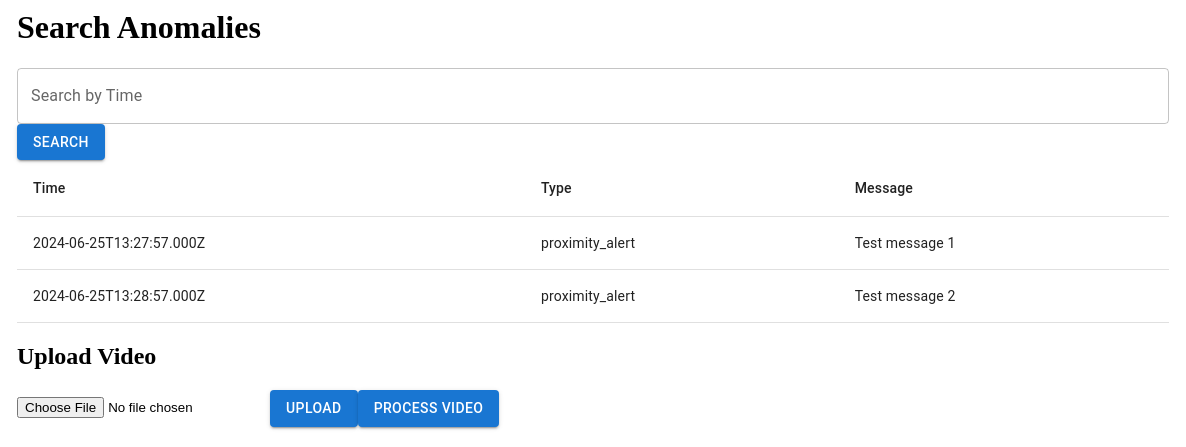
SearchPage › should filter anomalies based on search term
This screenshot has width=1186, height=447.
Expected: the text "Test message 1" is shown, [839,217,1169,270]
Type "13:27:57" into the field labelled "Search by Time" at (593, 96), box [17,68,1169,124]
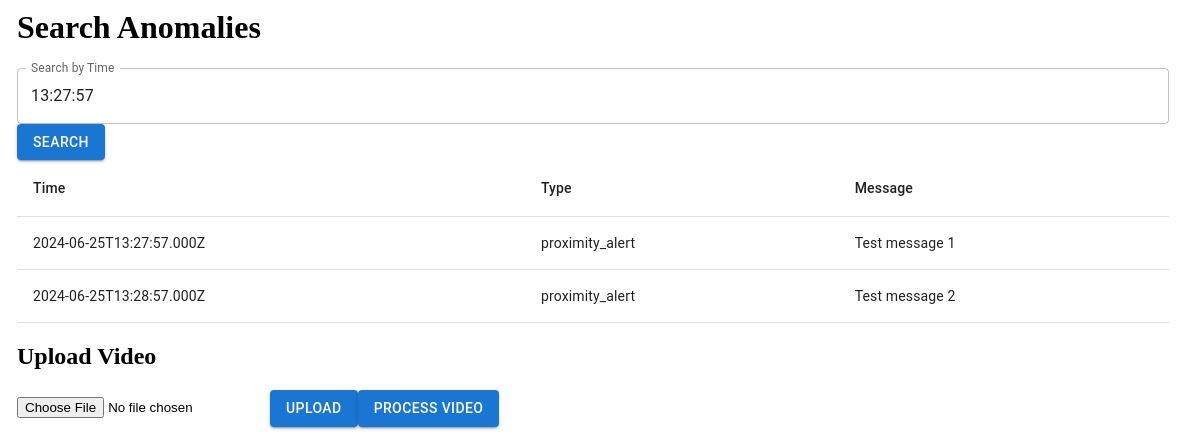
Click the button "Search" at (61, 142), box [17,124,105,160]
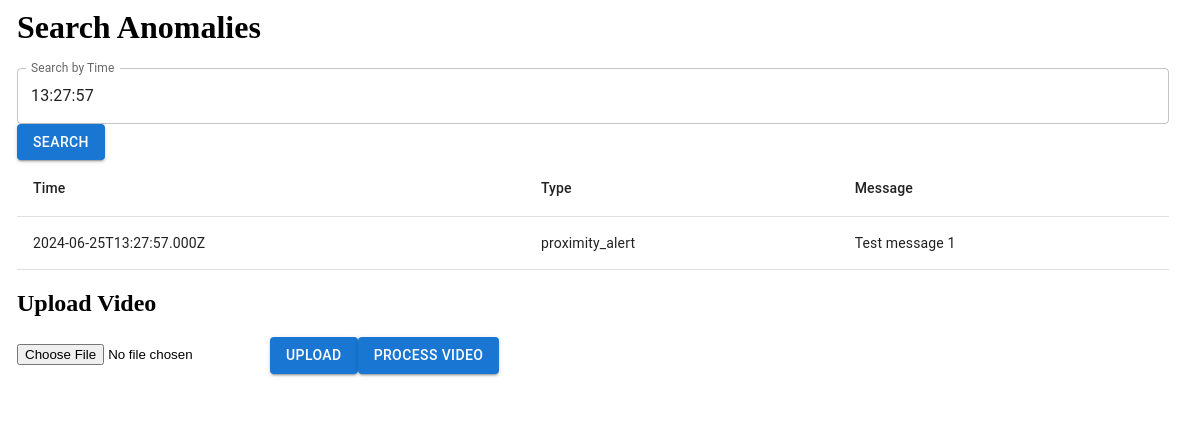
Expected: the text "Test message 1" is shown, [839,217,1169,270]
Result: the text "Test message 2" is gone
